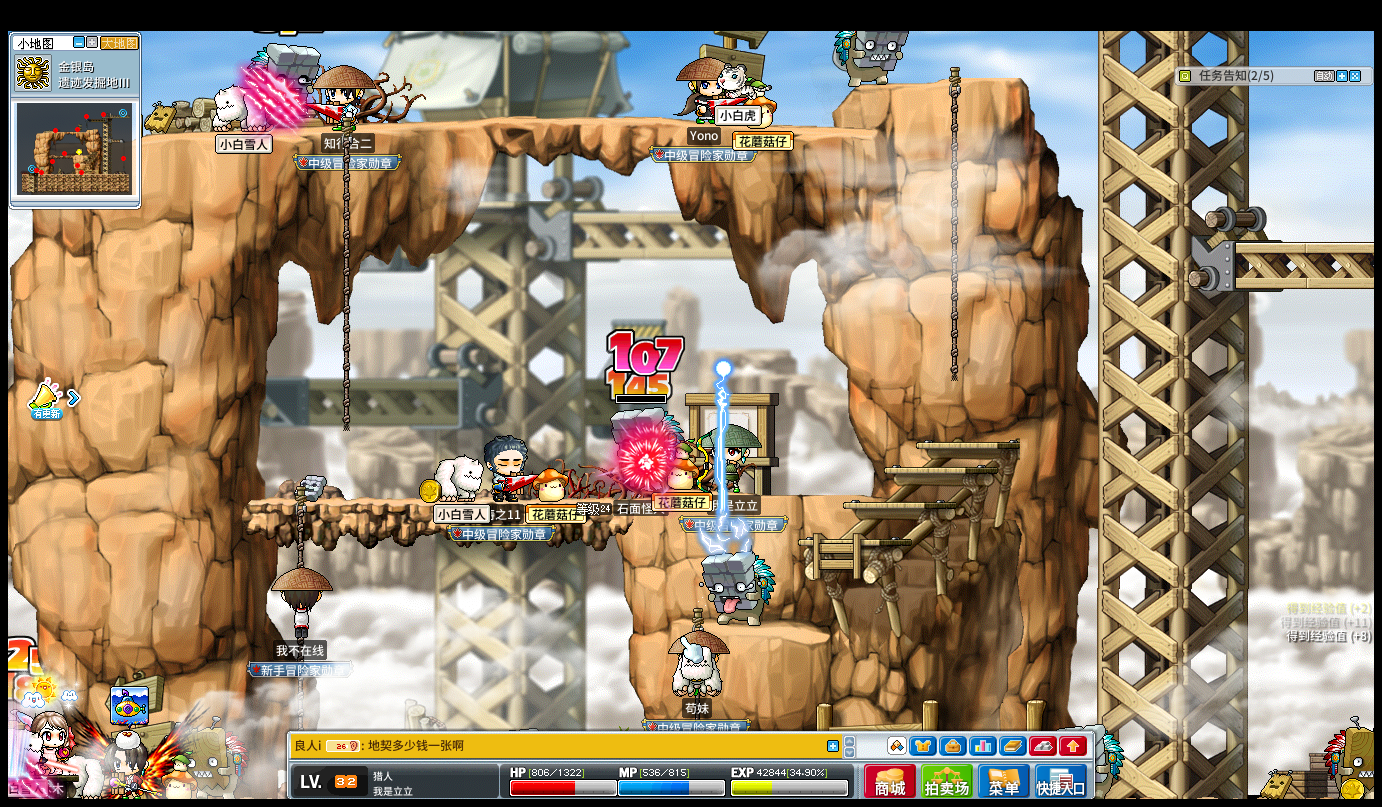floor: (244, 498, 609, 508), (1228, 234, 1378, 258), (714, 621, 831, 644), (859, 72, 1028, 86), (857, 76, 1021, 89), (717, 492, 888, 503), (708, 491, 880, 501), (795, 536, 908, 550), (797, 533, 909, 546), (841, 498, 955, 508), (912, 440, 1018, 450), (878, 464, 994, 473)
monster: (702, 550, 775, 628), (255, 39, 320, 124), (612, 406, 682, 480), (179, 723, 246, 793), (1324, 721, 1382, 795), (839, 26, 903, 86), (611, 406, 682, 453), (1085, 728, 1125, 793)
rope: (339, 118, 354, 435), (947, 61, 961, 384), (948, 63, 960, 287), (292, 484, 306, 566)
